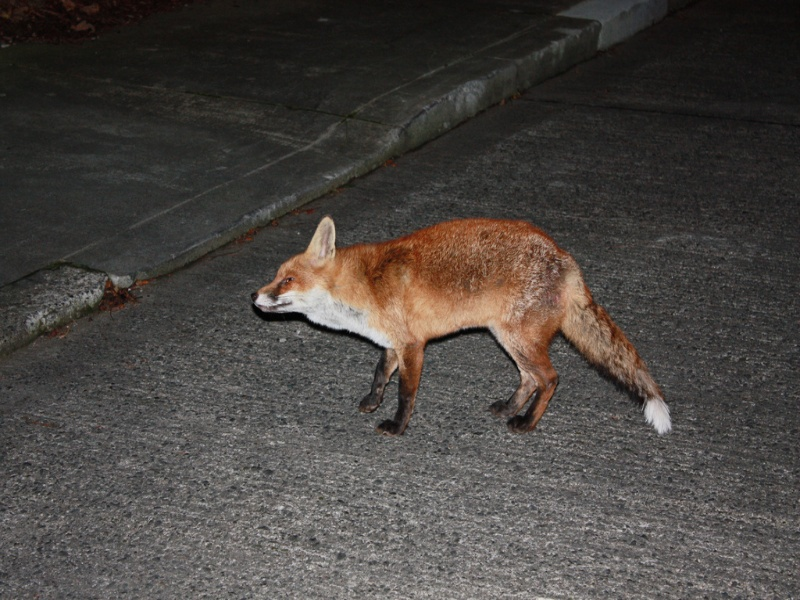fox: (250, 216, 677, 441)
